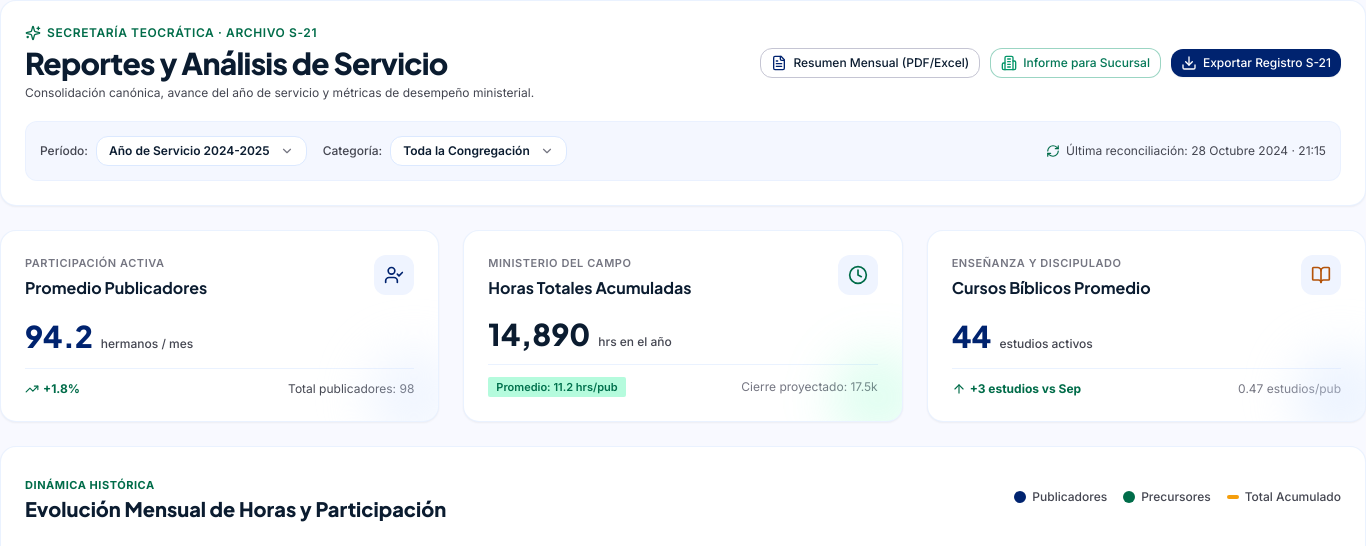
it: ConsolidatedReportsPage › ejecuta la acción de resumen mensual (PDF/Excel)
This screenshot has width=1366, height=546.
Click the button "Resumen Mensual (PDF/Excel)" at (870, 63), box [760,48,980,78]
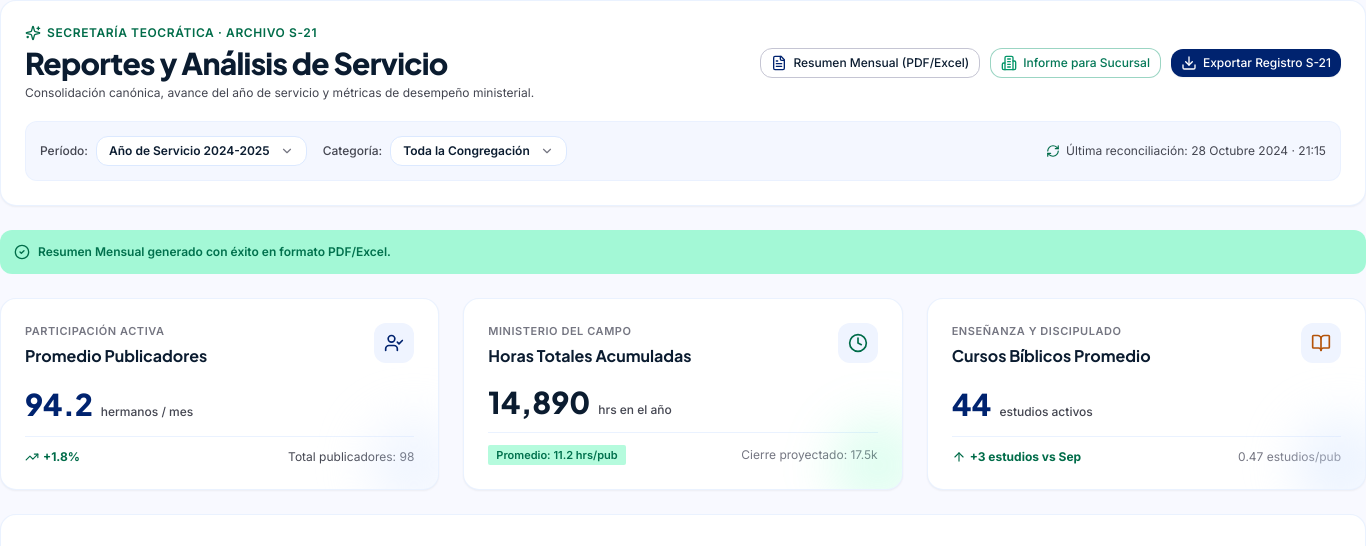
Now the text "Resumen Mensual generado con éxito en formato PDF/Excel." is shown, box [38,244,391,260]
